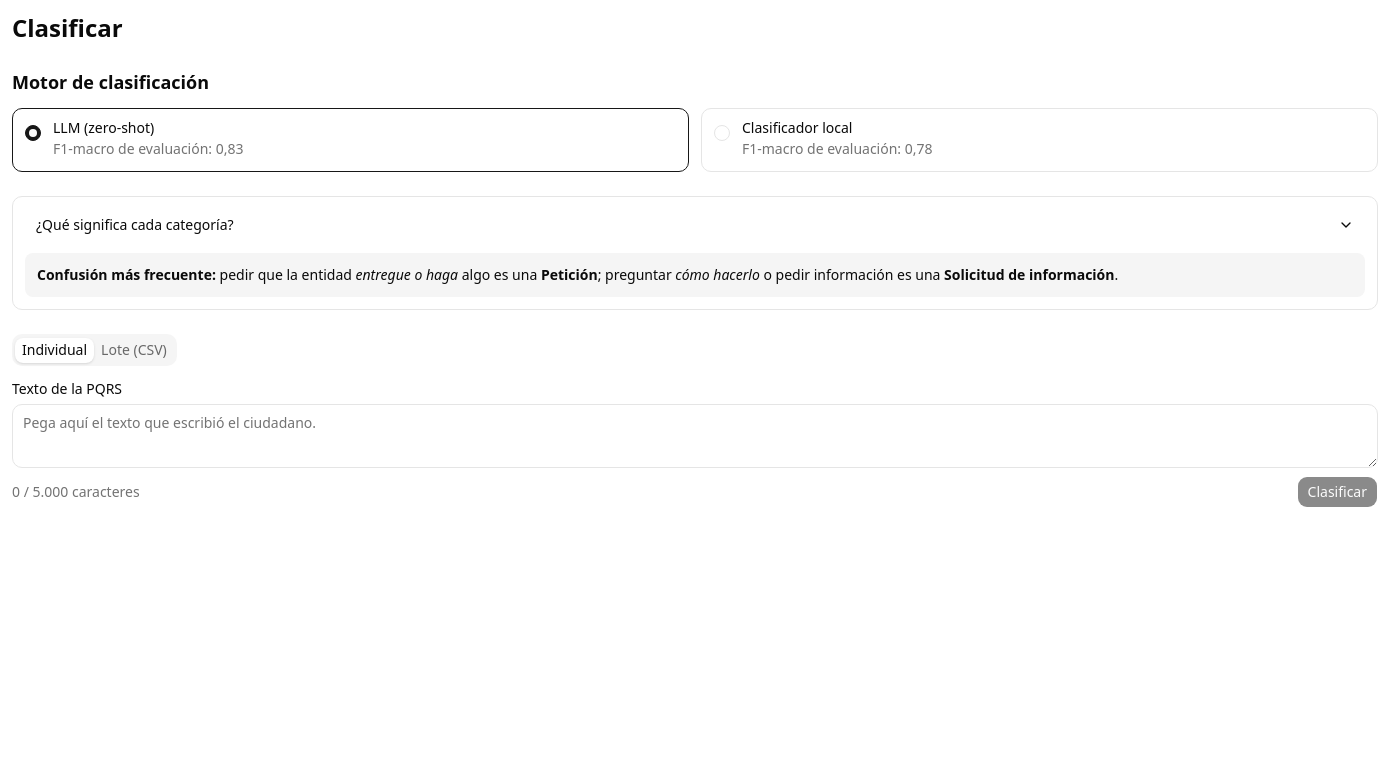
Test: pestaña Individual › ante un 422 muestra un mensaje claro
The width and height of the screenshot is (1390, 780).
Expected: the radio button named "LLM" next to "LLM (zero-shot)" is checked, [25, 125, 41, 141]
Type "Texto de prueba" into the text box labelled "Texto de la PQRS".
click(695, 436); type("Texto de prueba")  # box [12, 404, 1378, 468]
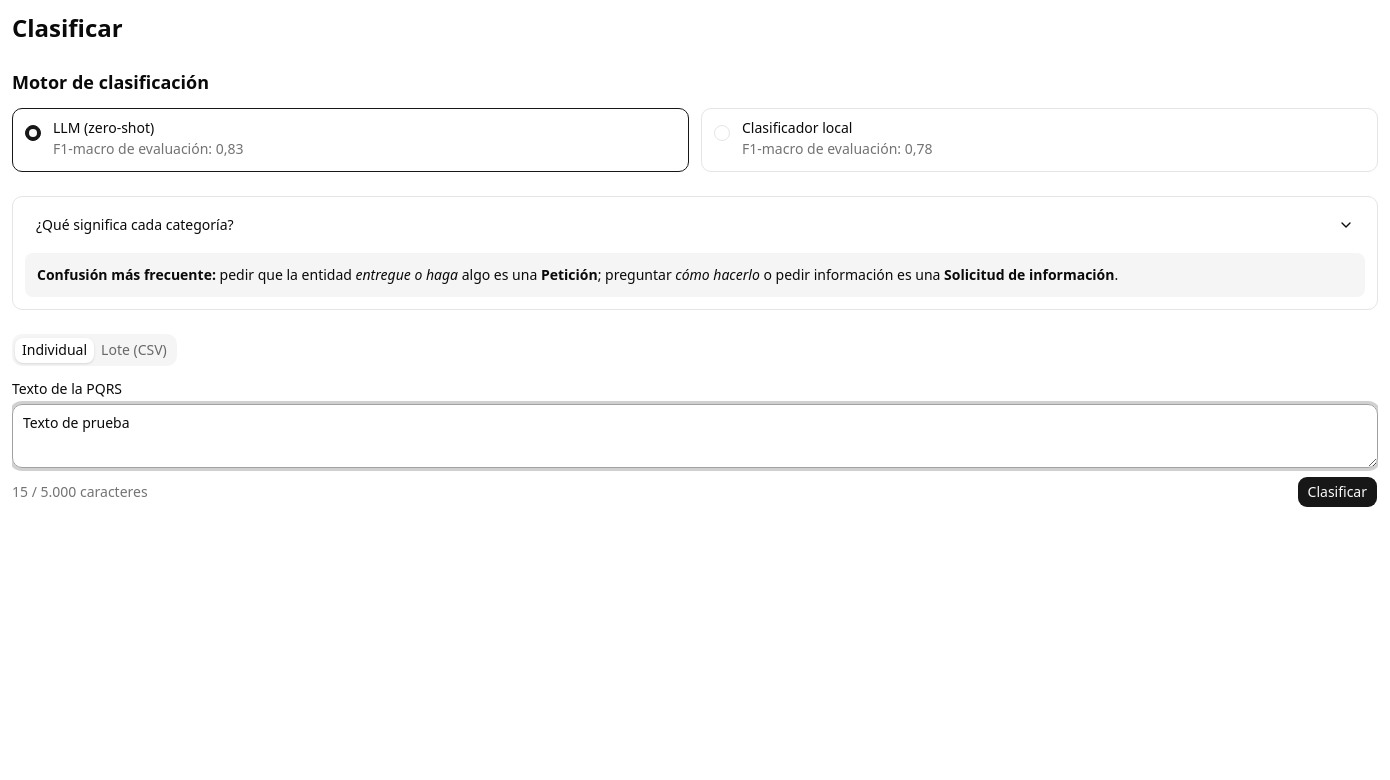
Click the button "Clasificar".
click(1337, 492)  # box [1297, 476, 1378, 508]
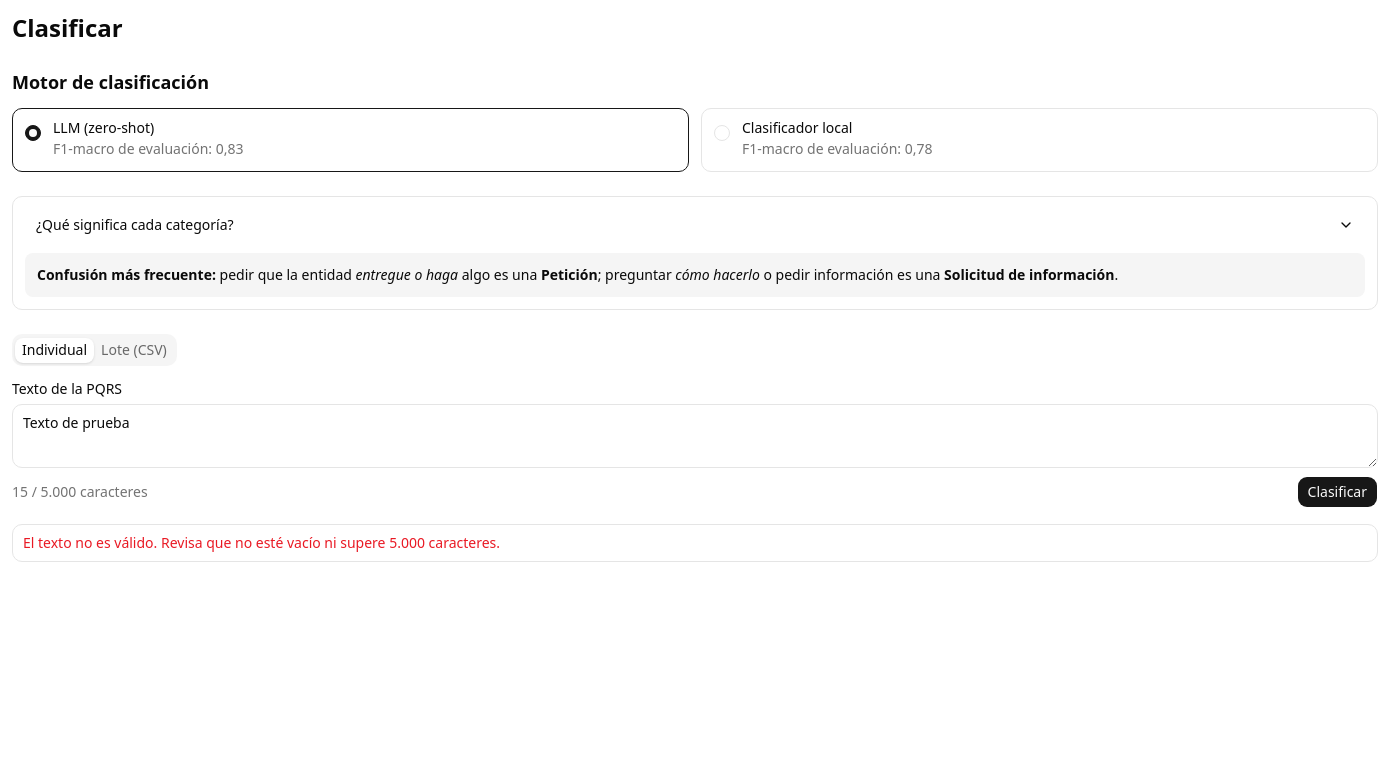
Result: the message shows "El texto no es válido" at [23, 533, 500, 552]
